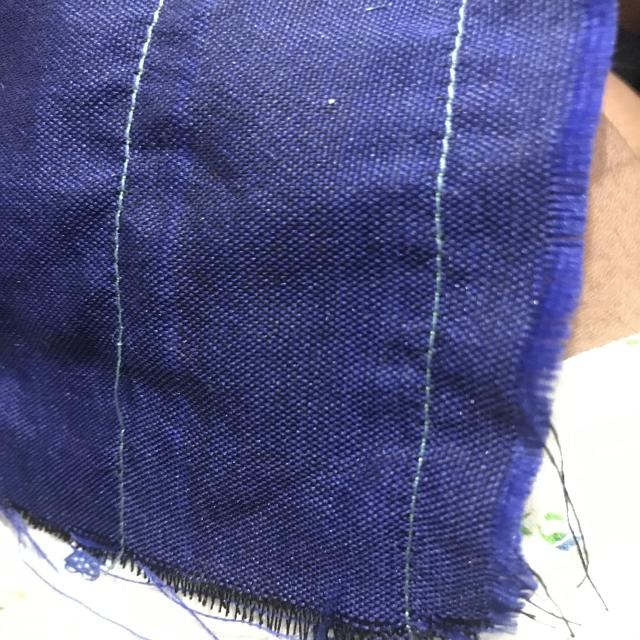good: (98, 160, 138, 261)
skip: (88, 322, 149, 436)
